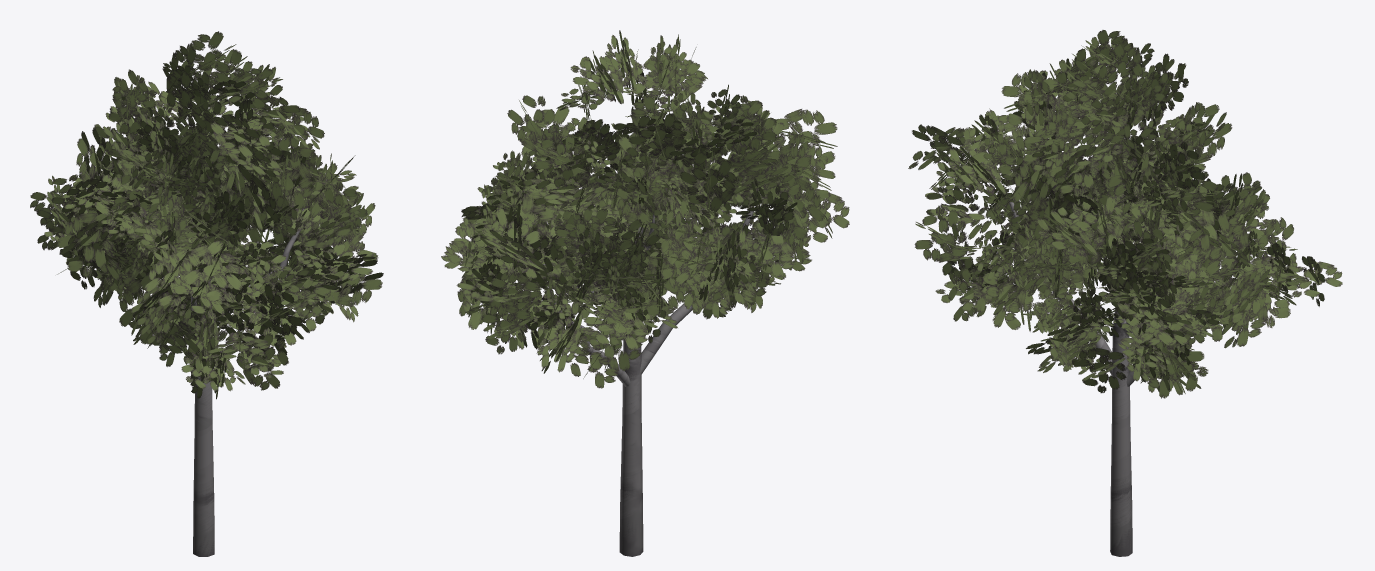
The model's file is GreenTree.fbx.
The picture shows the model from 3 angles, left to right: view 1: azimuth 30°, elevation 25°; view 2: azimuth 150°, elevation 25°; view 3: azimuth 270°, elevation 25°; orthographic projection.
Visible parts, largest first — view 1: GreenTree; view 2: GreenTree; view 3: GreenTree.
Part boxes in pixels (left/top/right/bottom): GreenTree: left=30, top=31, right=383, bottom=556; GreenTree: left=441, top=30, right=849, bottom=556; GreenTree: left=908, top=30, right=1342, bottom=556.
Bounding box in the file's own units: 651 × 941 × 747.
